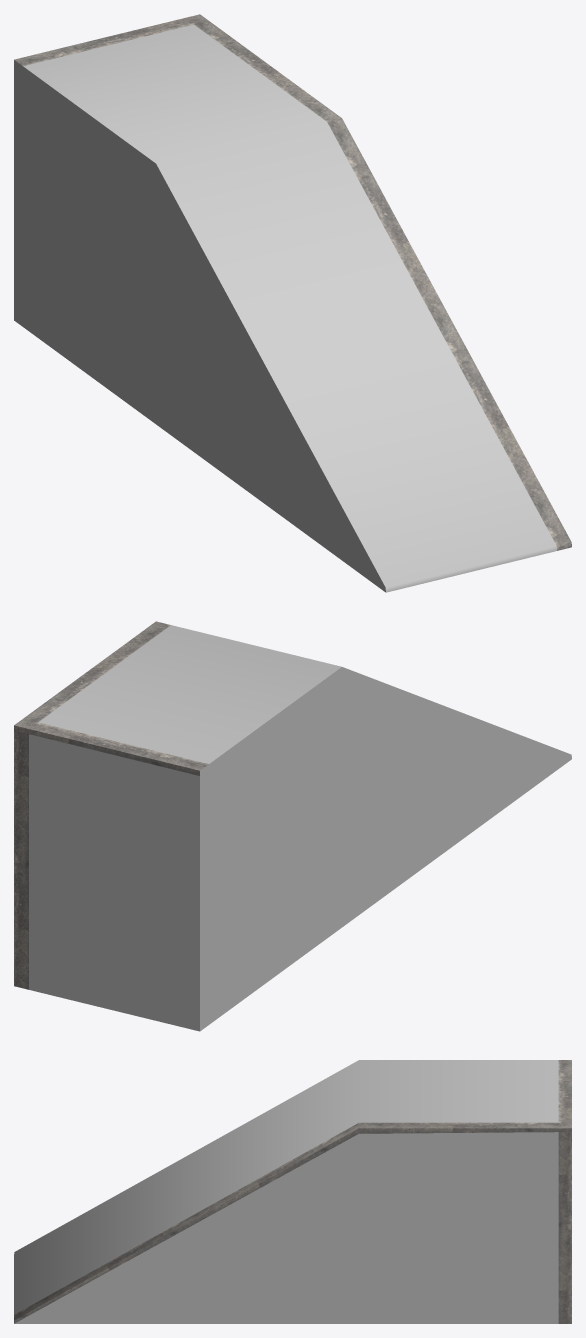
Rendered from JpHouseJ_StoneWall_slope01ar.fbx.
3 views of the same model, one above another, from view 1: azimuth 30°, elevation 25°; view 2: azimuth 150°, elevation 25°; view 3: azimuth 270°, elevation 25° (orthographic). The views are drawn at different scales.
Visible parts, largest first — view 1: JpHouseJ_StoneWall_slope01ar; view 2: JpHouseJ_StoneWall_slope01ar; view 3: JpHouseJ_StoneWall_slope01ar.
Boxes of the visible parts, x1,y1,x2,y2 form: JpHouseJ_StoneWall_slope01ar: (14,14,571,592); JpHouseJ_StoneWall_slope01ar: (14,621,571,1031); JpHouseJ_StoneWall_slope01ar: (14,1060,571,1323).
Bounding box in the file's own units: 2.88 × 3.85 × 9.96.
